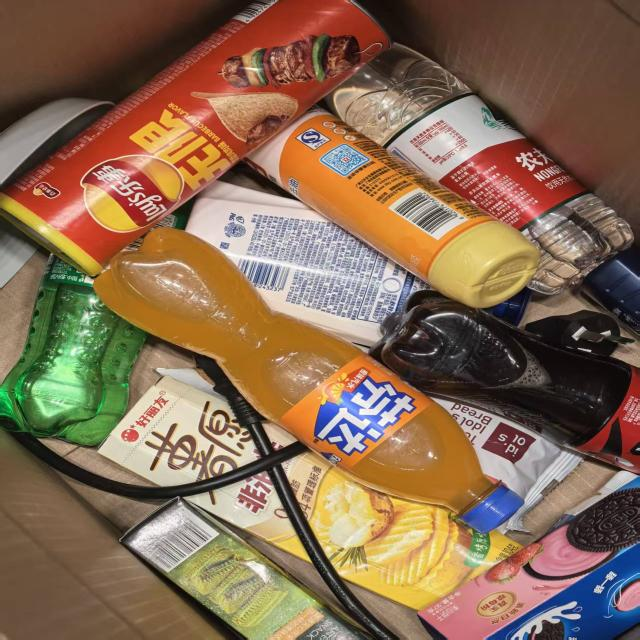orange: (292, 358, 424, 462)
